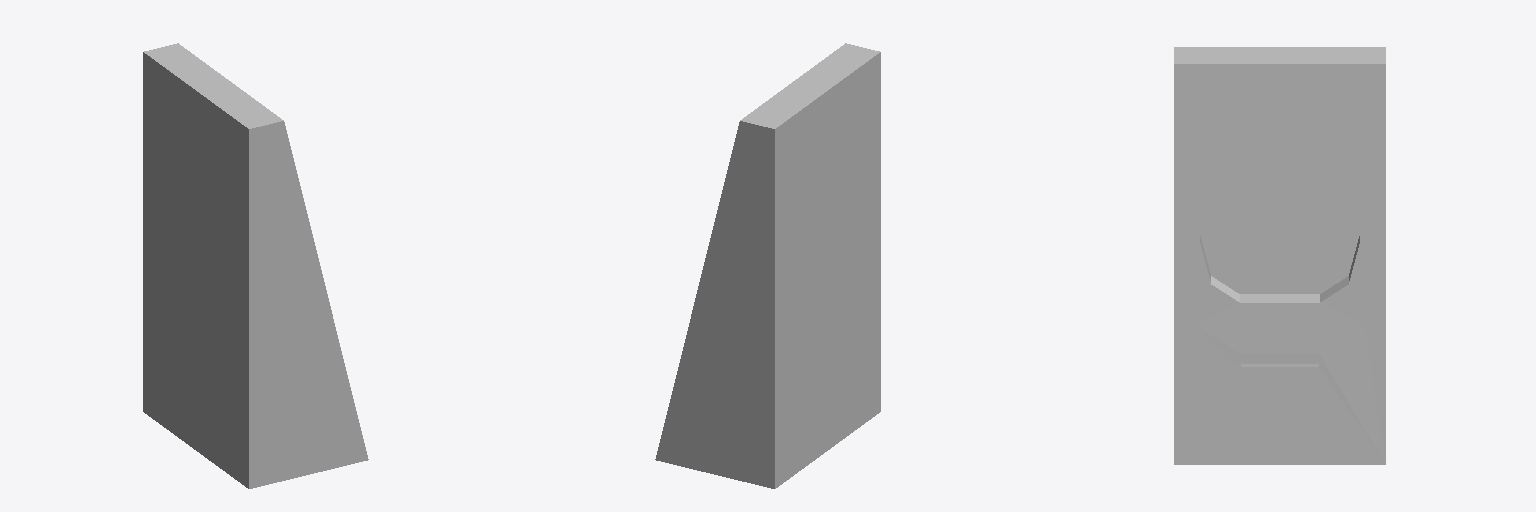
Rendered from UsbKey.obj.
3 views of the same model, side by side, from view 1: azimuth 30°, elevation 25°; view 2: azimuth 150°, elevation 25°; view 3: azimuth 270°, elevation 25° (orthographic).
Visible parts, largest first — view 1: Cube.001_Cube.002; view 2: Cube.001_Cube.002; view 3: Cube.001_Cube.002.
Boxes of the visible parts, x1=… form: Cube.001_Cube.002: x1=143, y1=43, x2=368, y2=488; Cube.001_Cube.002: x1=655, y1=43, x2=880, y2=488; Cube.001_Cube.002: x1=1174, y1=47, x2=1385, y2=464.
Size of the model in its own units: 0.7435 by 2.13 by 1.14.